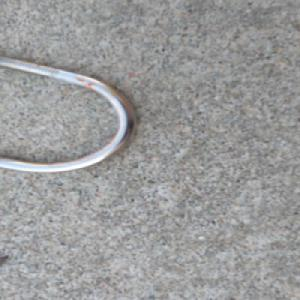ClampPart: (0, 53, 139, 174)
